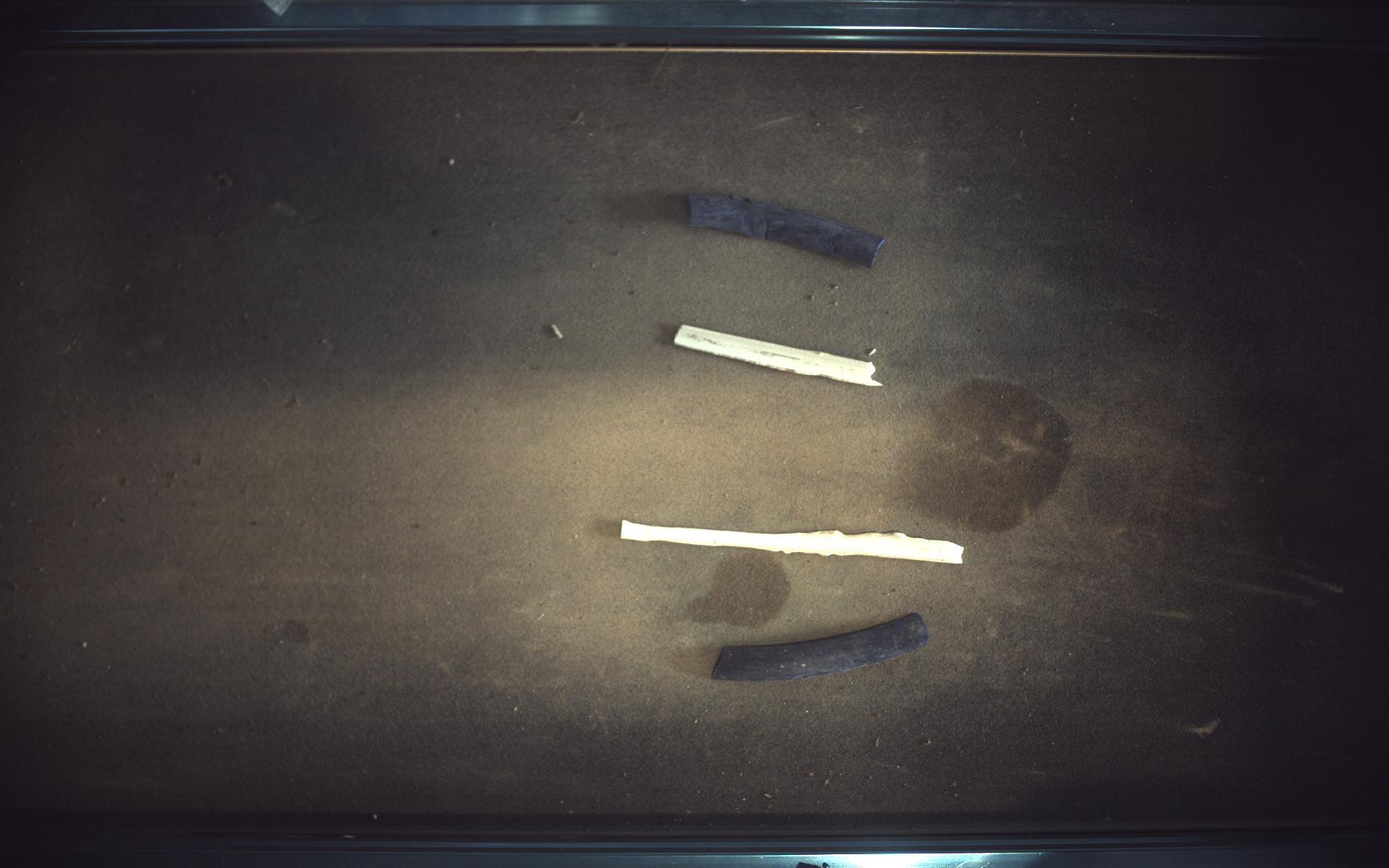plastic: (713, 613, 931, 682), (621, 521, 966, 564), (690, 192, 886, 267), (675, 324, 883, 386)
